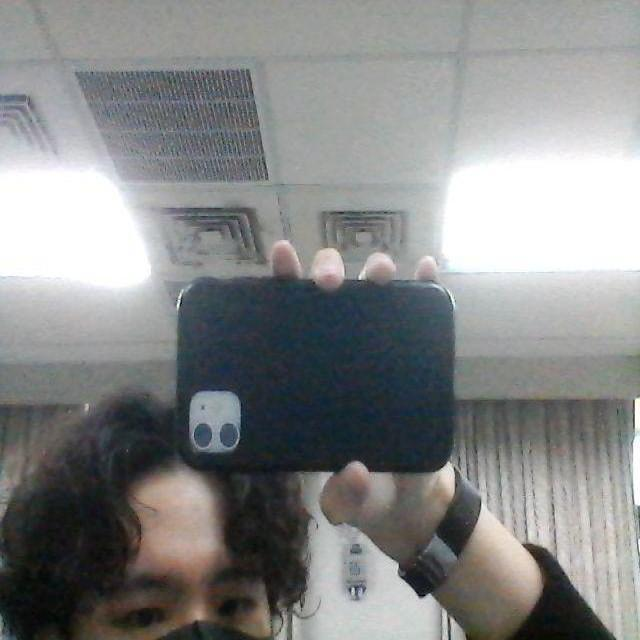lens: (190, 391, 242, 456)
phone: (171, 266, 469, 486)
